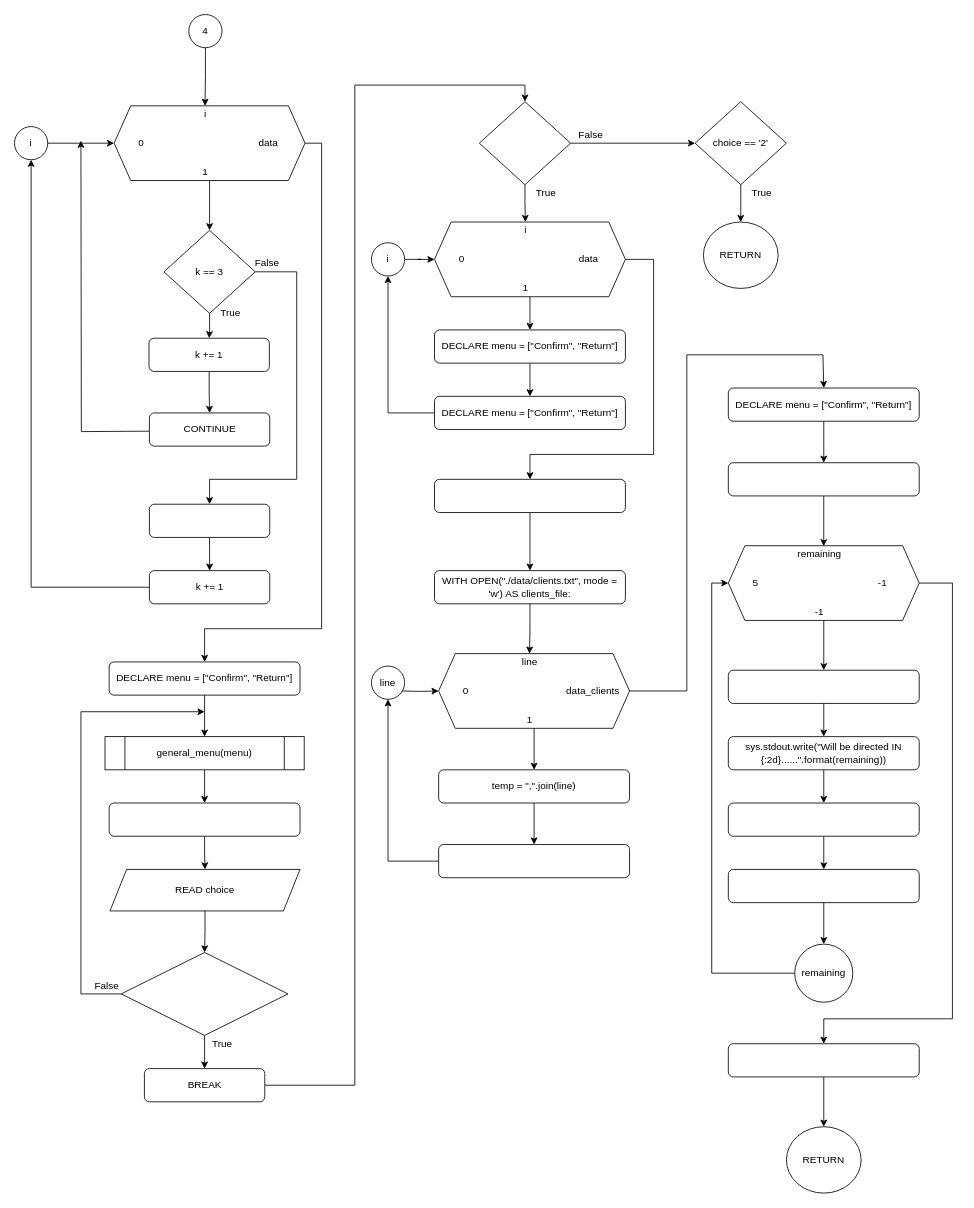
Some shapes in this 974 by 1208 pixel diagram are drawn without their labels. The centre of each missing label's shape, as x and y in pixels:
APPEND data TO data_clients: [529,495]
choice == '1': [524,143]
choice == '1' OR choice == '2': [204,993]
clients_file.write(temp + '\n'): [534,861]
PRINT("Please Select: "): [204,819]
PRINT(data_clients[0][k] + ": " + str(i)): [209,520]
print_title("Registeration information has successfuly recorded."): [823,479]
sys.stdout.flush(): [823,819]
sys.stdout.write("\n"): [823,1060]
sys.stdout.write("\r"): [823,686]
time.sleep(1): [823,886]
